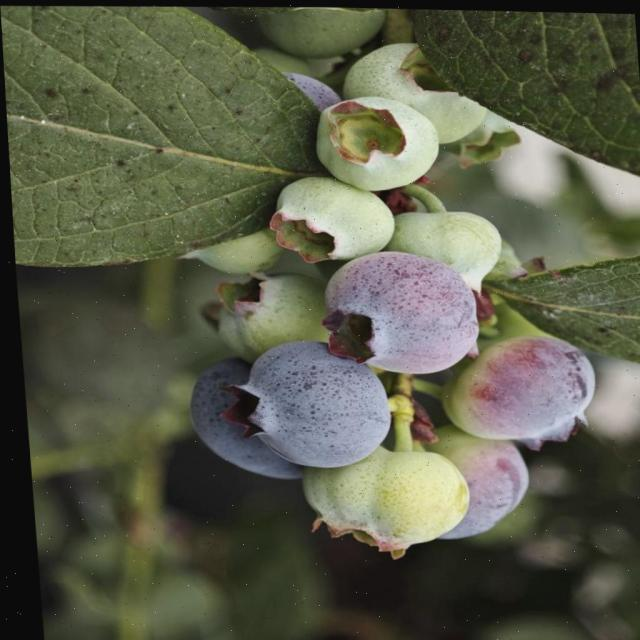RipeBlueBerry: (239, 338, 384, 467)
Semi-RipeBlueBerry: (323, 250, 475, 376), (436, 332, 592, 438)
UnripeBlueBerry: (293, 449, 465, 554), (309, 92, 441, 188)
